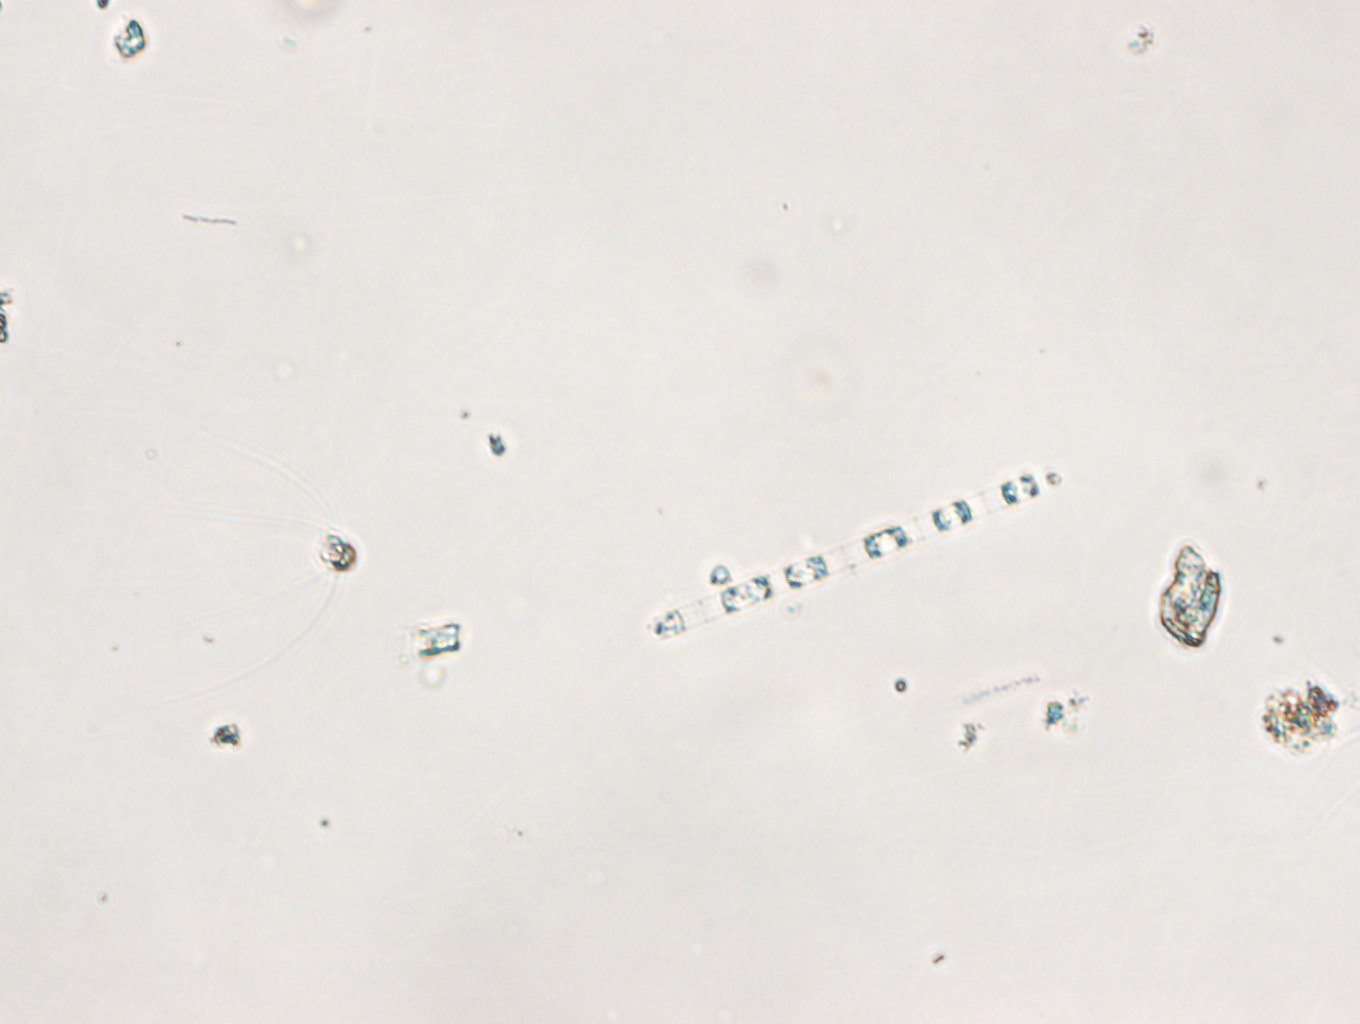skeletonema: (643, 458, 1069, 640)
